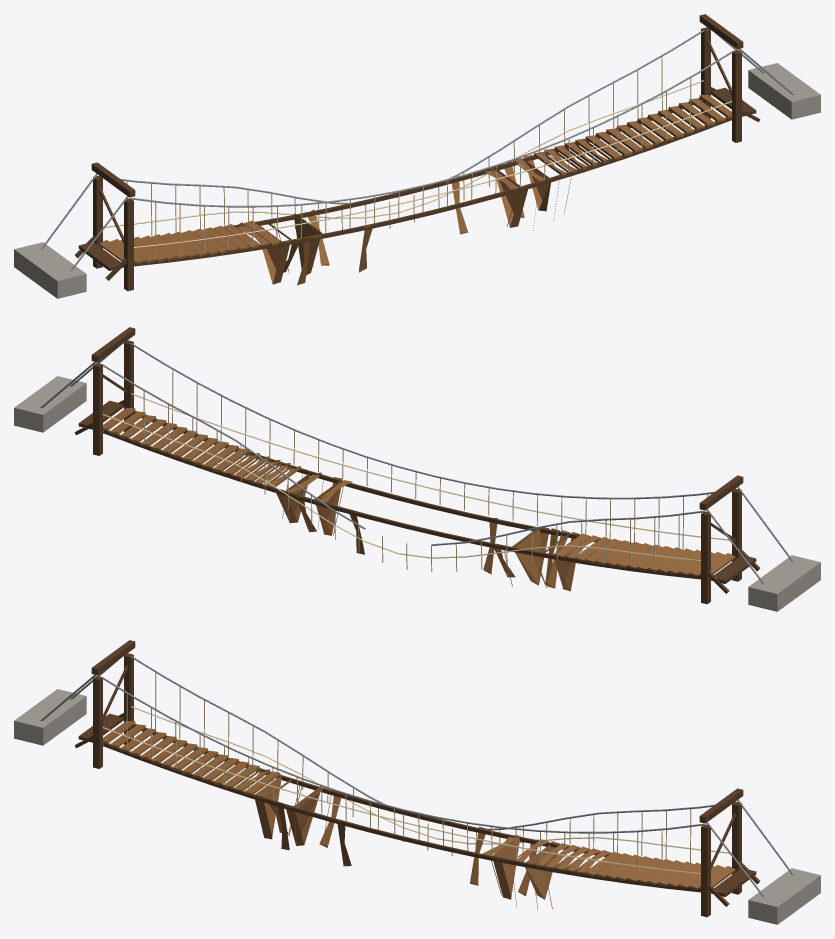
File: puente_roto.glb
The picture shows the model from 3 angles, top to bottom: view 1: azimuth 30°, elevation 25°; view 2: azimuth 150°, elevation 25°; view 3: azimuth 330°, elevation 25°; orthographic projection.
Parts seen in each view (by area): view 1: puente; view 2: puente; view 3: puente.
Part boxes in pixels (x1,y1,x2,y2): puente: (14,14,820,298); puente: (14,327,820,611); puente: (14,640,820,924).
Size of the model in its own units: 31.4 by 5.83 by 3.1.
